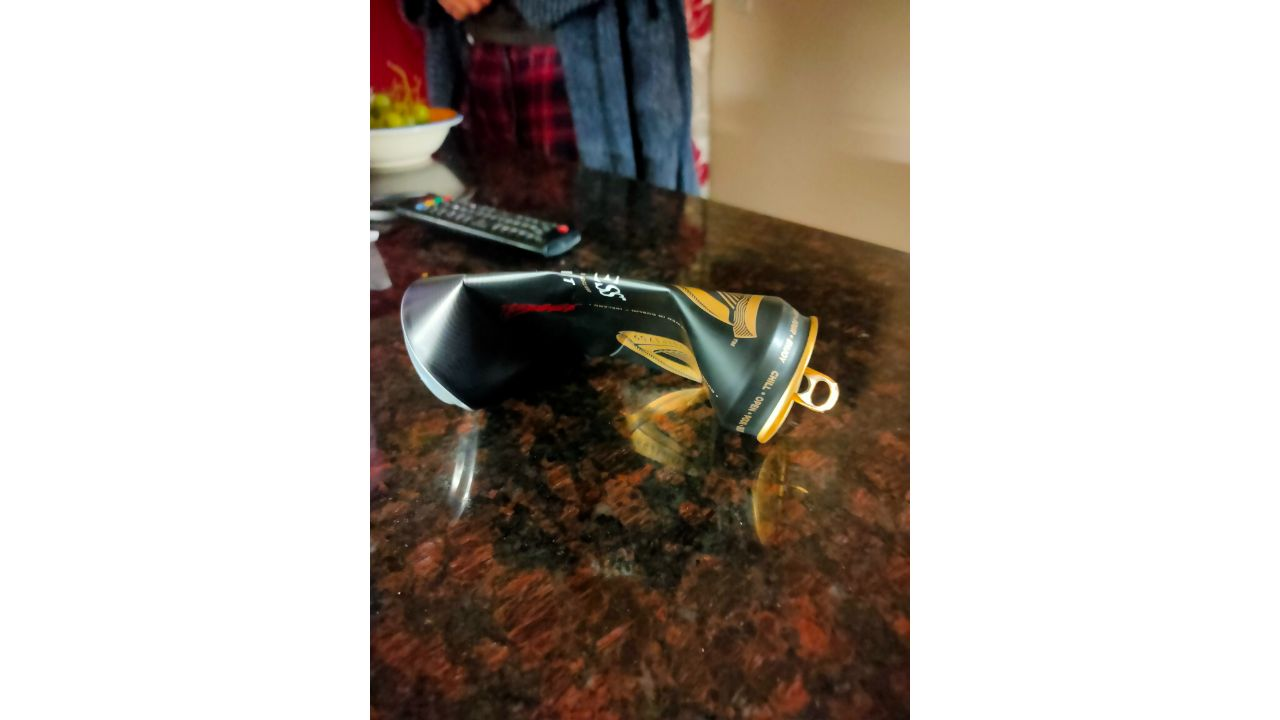Can: (394, 264, 842, 447)
